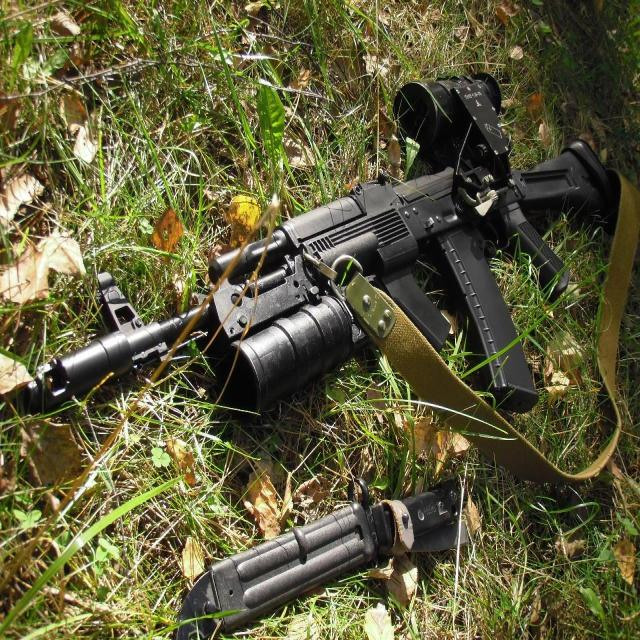firearm: (18, 69, 620, 415)
